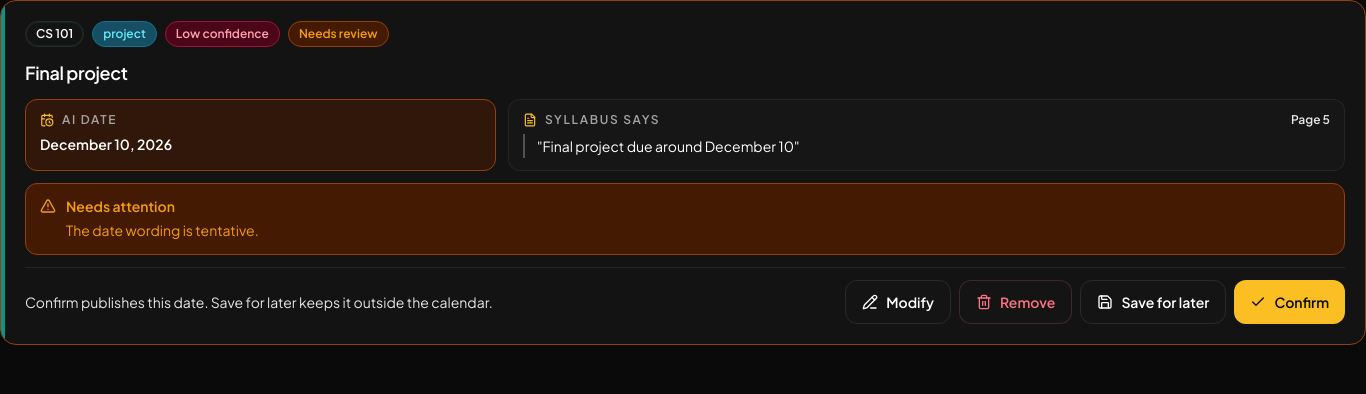
Test: shows a save error next to the review actions
The width and height of the screenshot is (1366, 394).
Click the button "Confirm" at (1290, 302), box [1234, 280, 1345, 324]
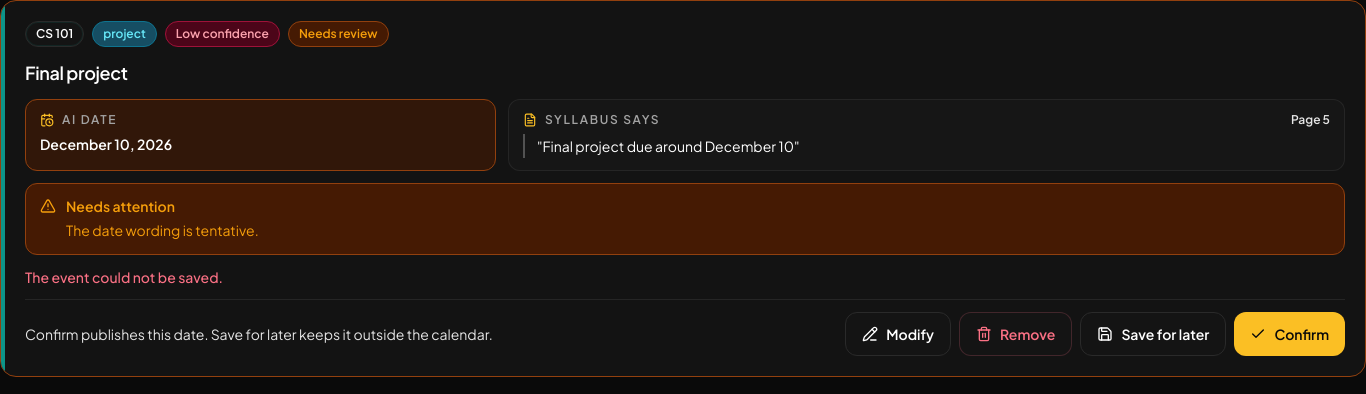
Result: the message reads "The event could not be saved." at [25, 268, 223, 286]
